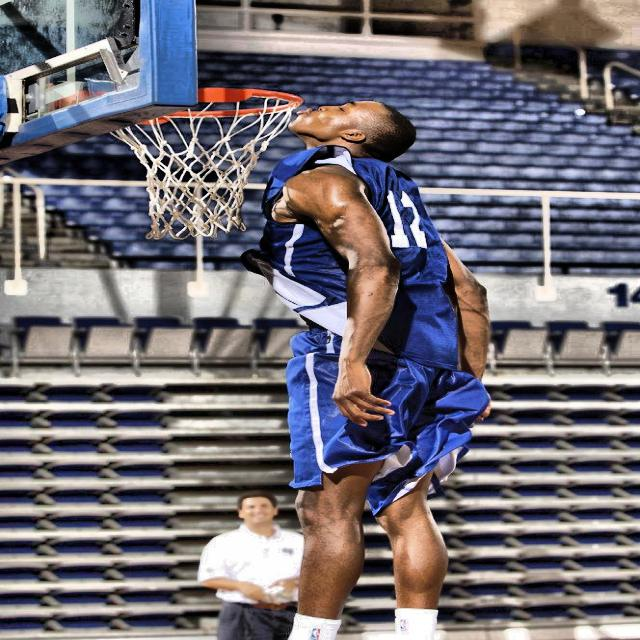rim: (100, 86, 303, 240)
